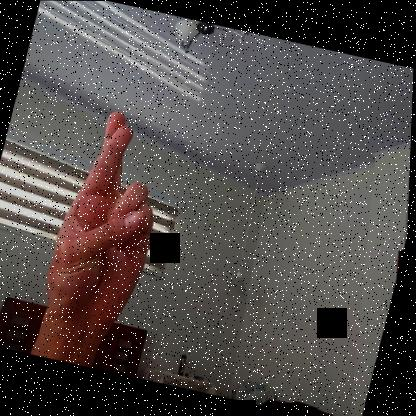R: (38, 103, 184, 336)
